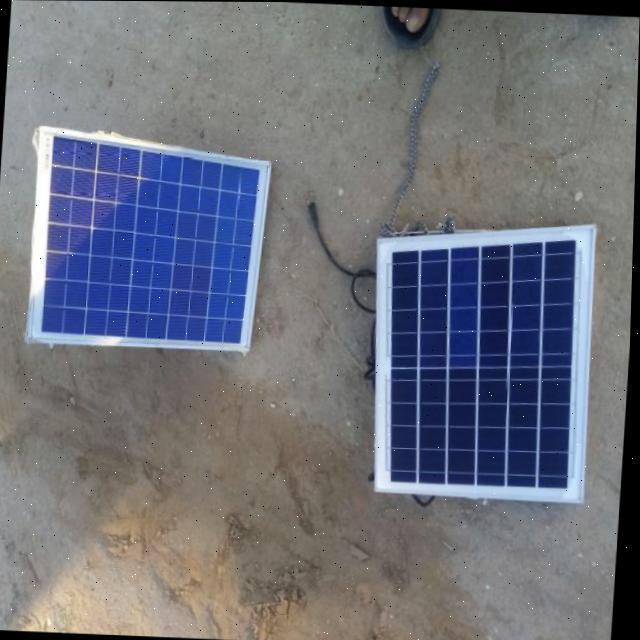Normal Solar Panel: (366, 216, 600, 498), (30, 128, 272, 350)
